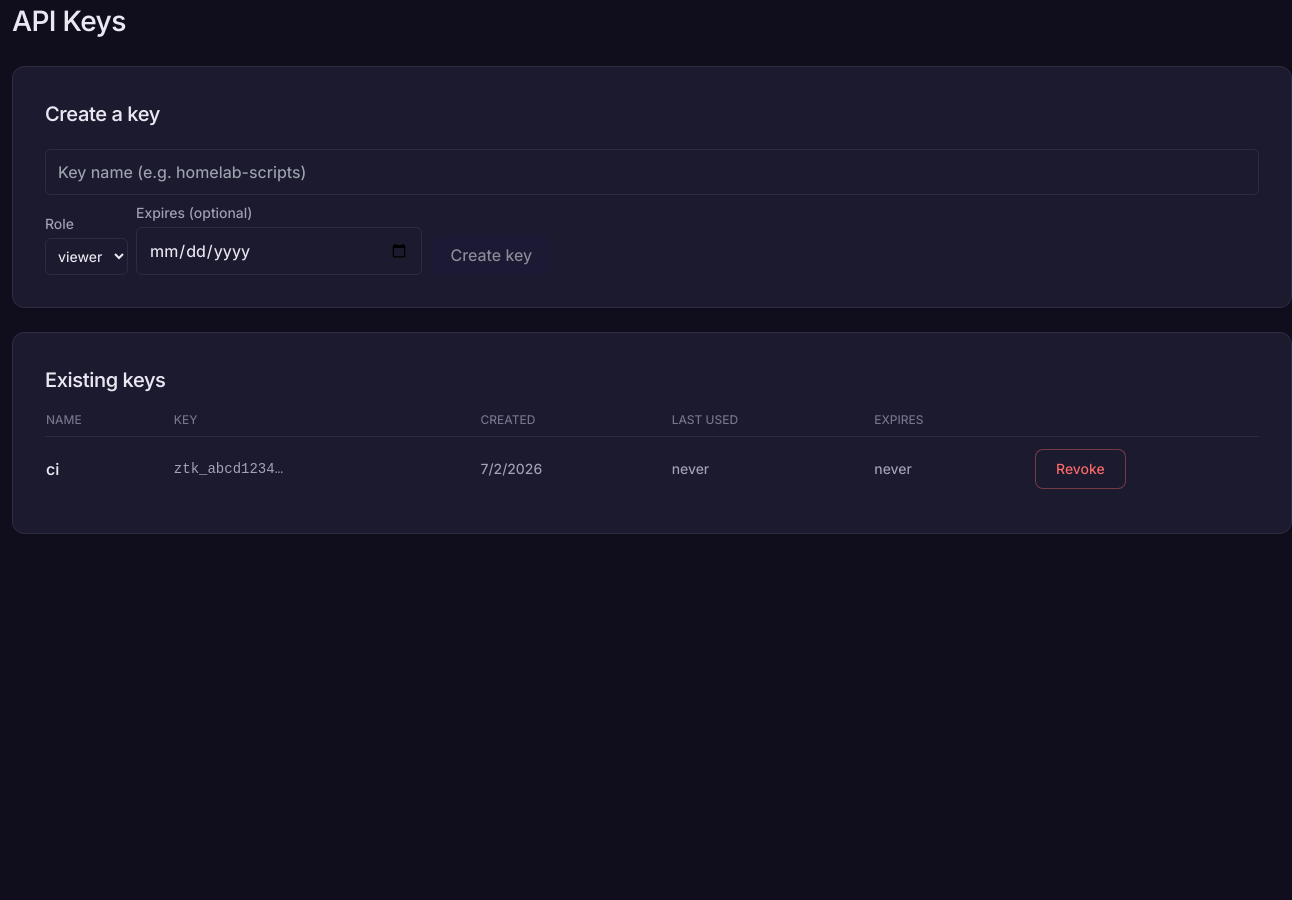
Test: ApiKeysPage › creates a key with a selected role and reveals the full key exactly once
Expected: the text "ci" is shown, [45,436,173,501]
Type "new-key" into the field with placeholder "Key name (e.g. homelab-scripts)" at (652, 172), box [45,149,1259,195]
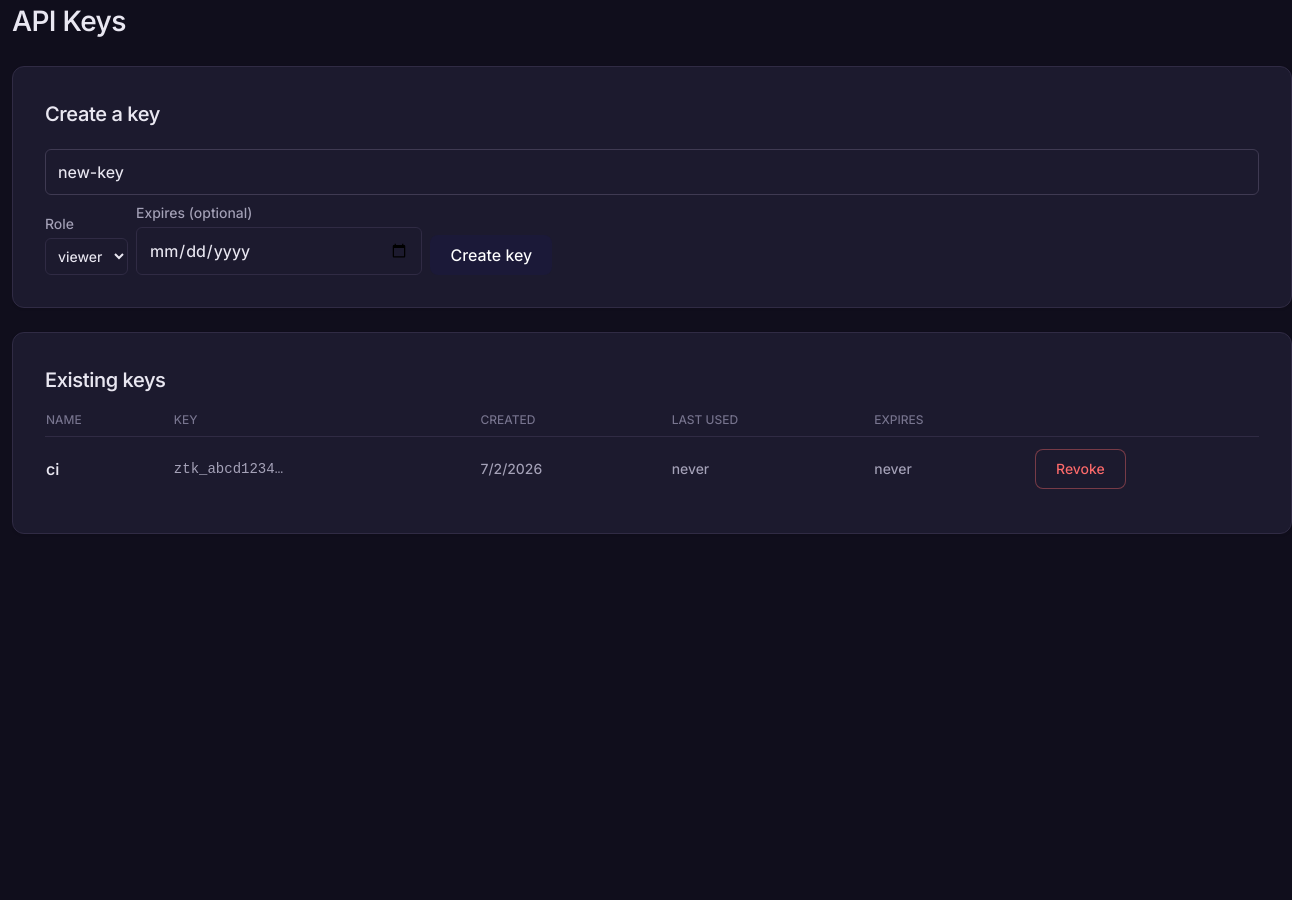
Select "editor" in the dropdown labelled "Role" at (86, 256), box [45,238,128,275]
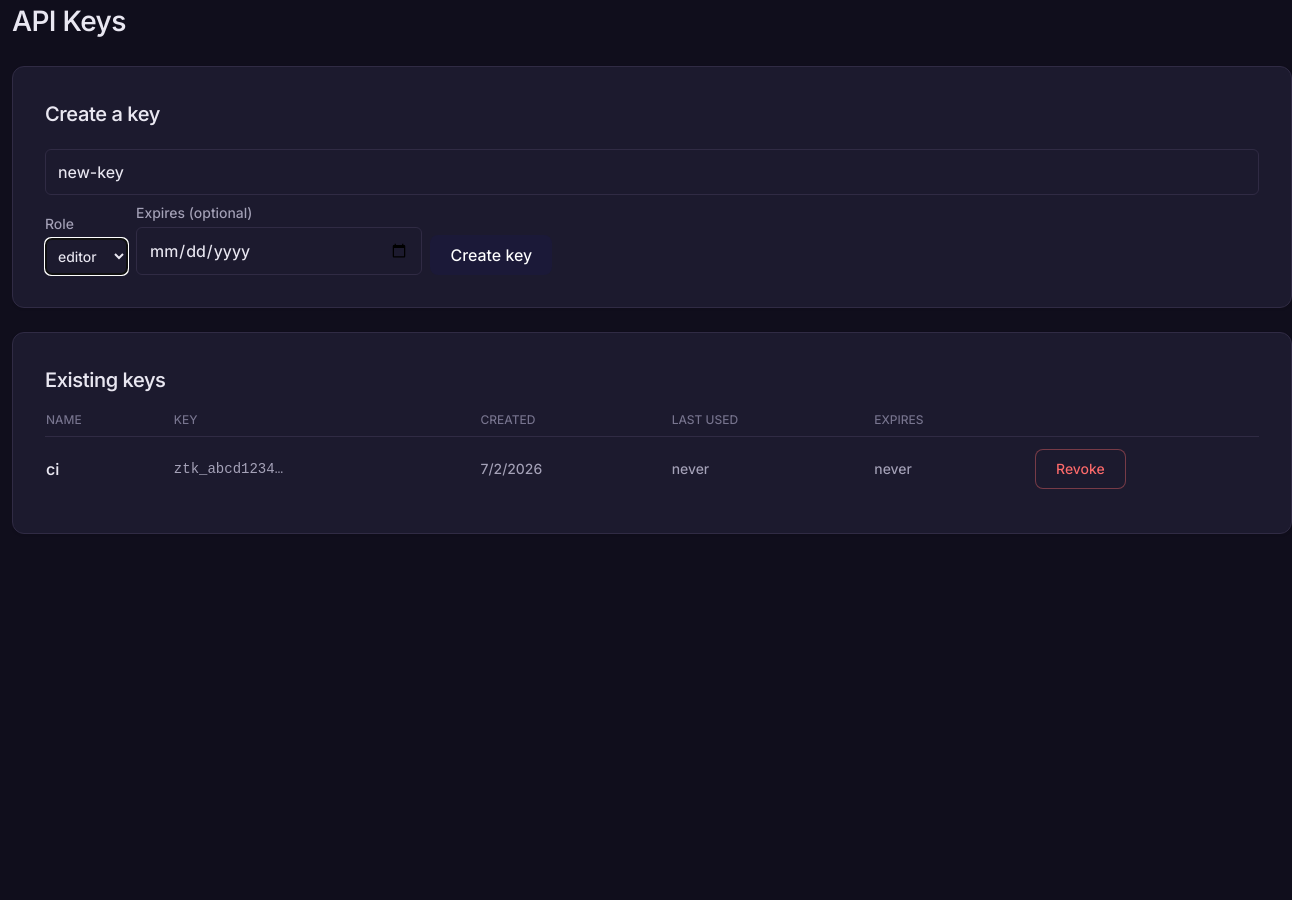
Click the button "Create key" at (491, 255), box [430,235,552,275]
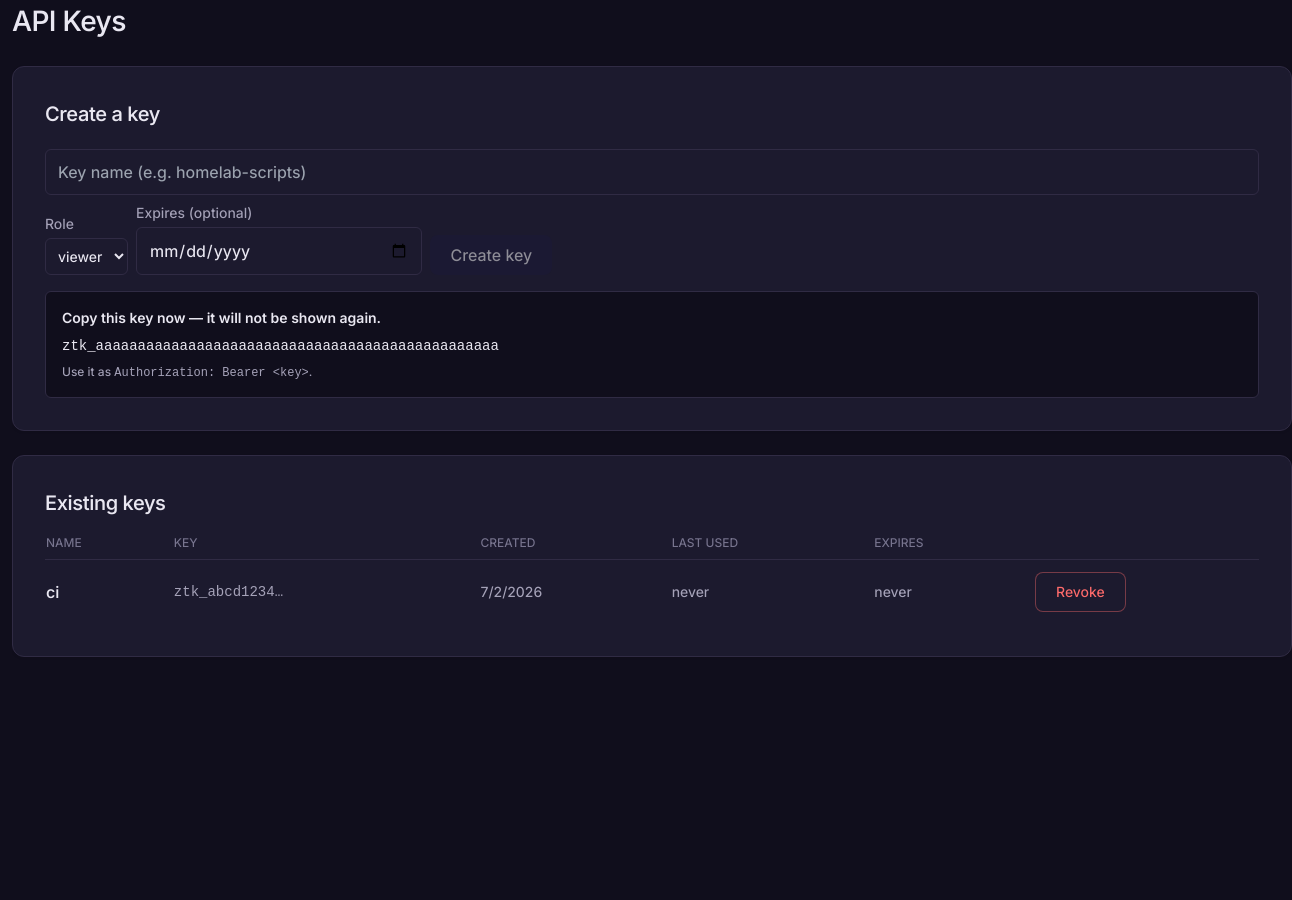
Now the text "Copy this key now — it will not be shown again." is shown, box [62,309,381,326]
